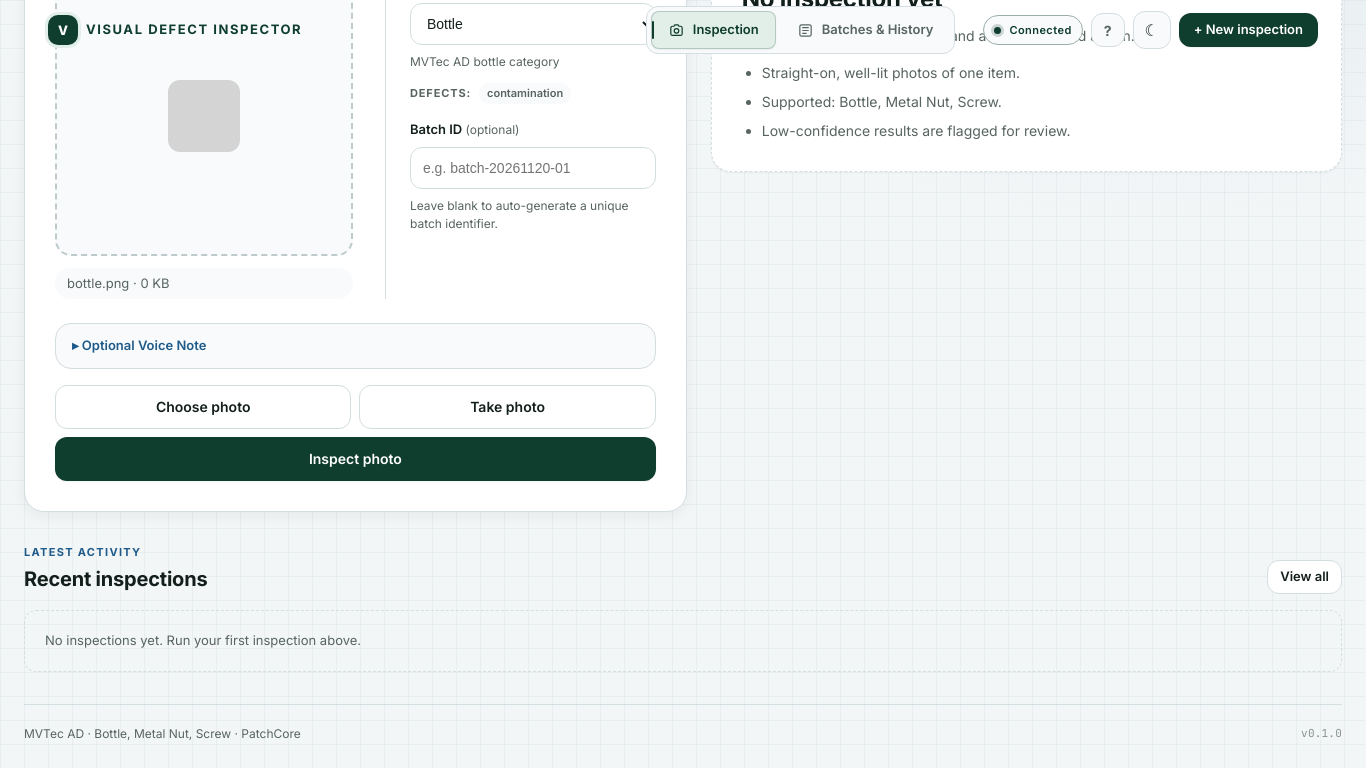
Test: App › runs a real defect flow from photo selection to verdict
The image size is (1366, 768).
Earlier steps of the test are not shown.
(page scrolled)
Click the button "Inspect photo". click: {"x": 355, "y": 459}
box: [55, 437, 656, 481]
(page scrolled)
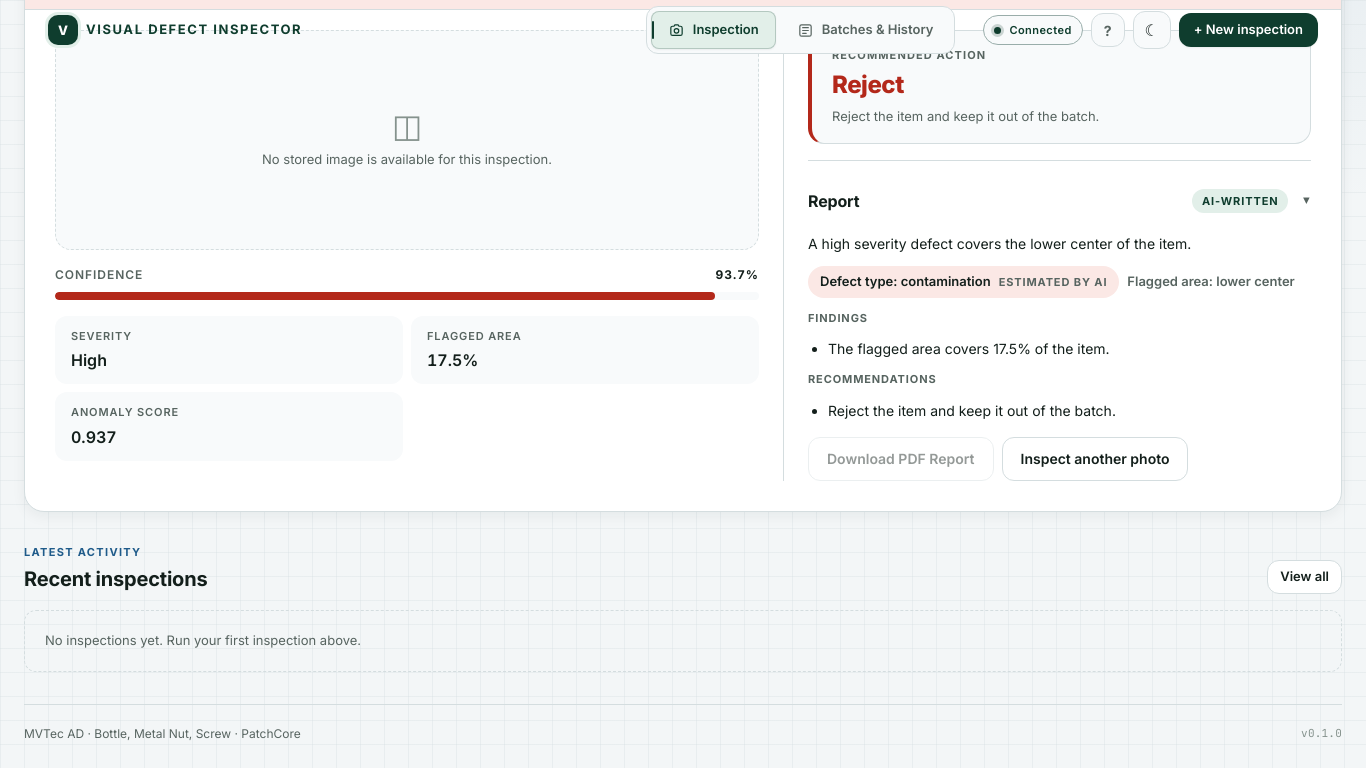
Expected: the text "High" is shown, [71, 350, 107, 370]
Expected: the text "AI-written" is shown, [1192, 189, 1288, 213]
Expected: the text "A high severity defect covers the lower center of the item." is shown, [808, 235, 1191, 252]
